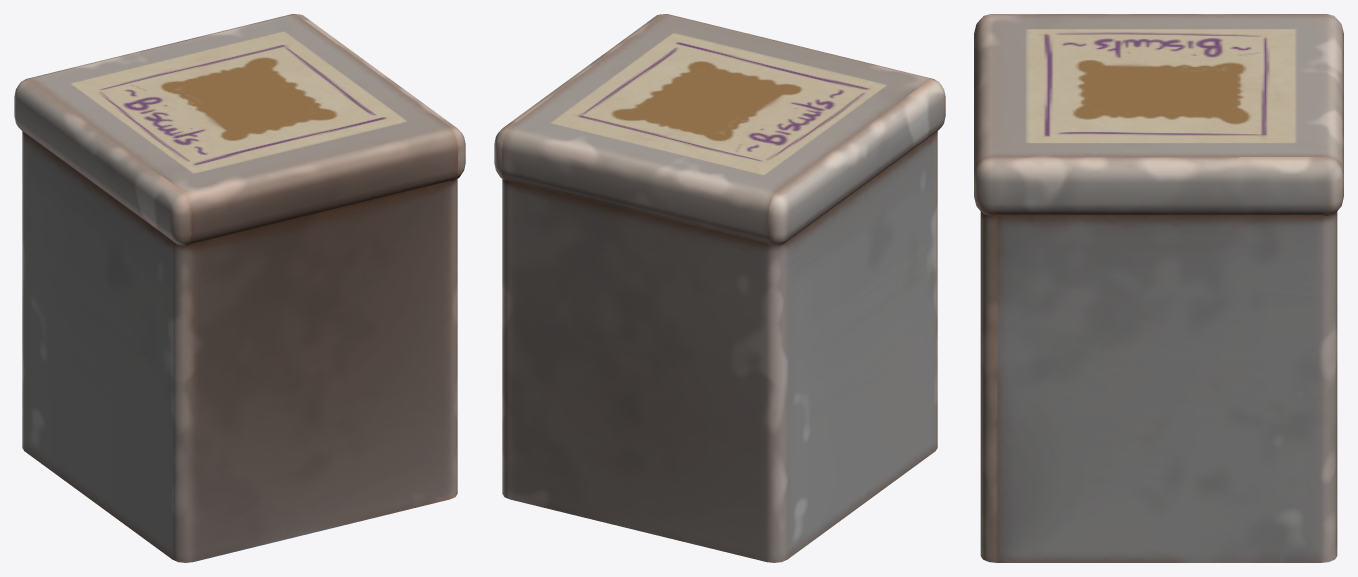
File: SM_FoodPot_15.fbx
3 views of the same model, side by side, from view 1: azimuth 30°, elevation 25°; view 2: azimuth 150°, elevation 25°; view 3: azimuth 270°, elevation 25° (orthographic). The views are drawn at different scales.
Visible parts, largest first — view 1: SM_FoodPot_15_LOD0; view 2: SM_FoodPot_15_LOD0; view 3: SM_FoodPot_15_LOD0.
Boxes of the visible parts, x1,y1,x2,y2 form: SM_FoodPot_15_LOD0: (14,14,465,562); SM_FoodPot_15_LOD0: (494,14,945,562); SM_FoodPot_15_LOD0: (974,14,1343,562).
Bounding box in the file's own units: 11.68 × 11.68 × 13.99.
Materials: 1 (1 with a texture image).
